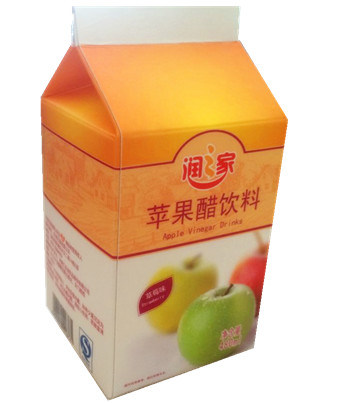Rec_Paper: (39, 1, 281, 395)
